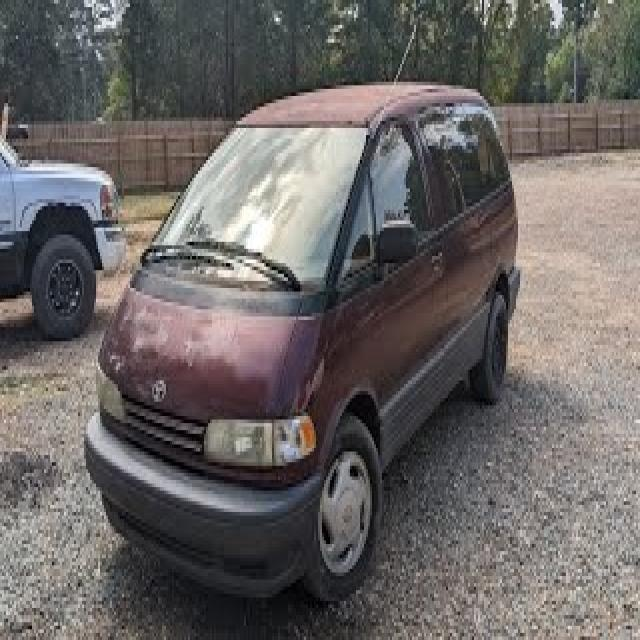Van: (86, 78, 524, 604)
